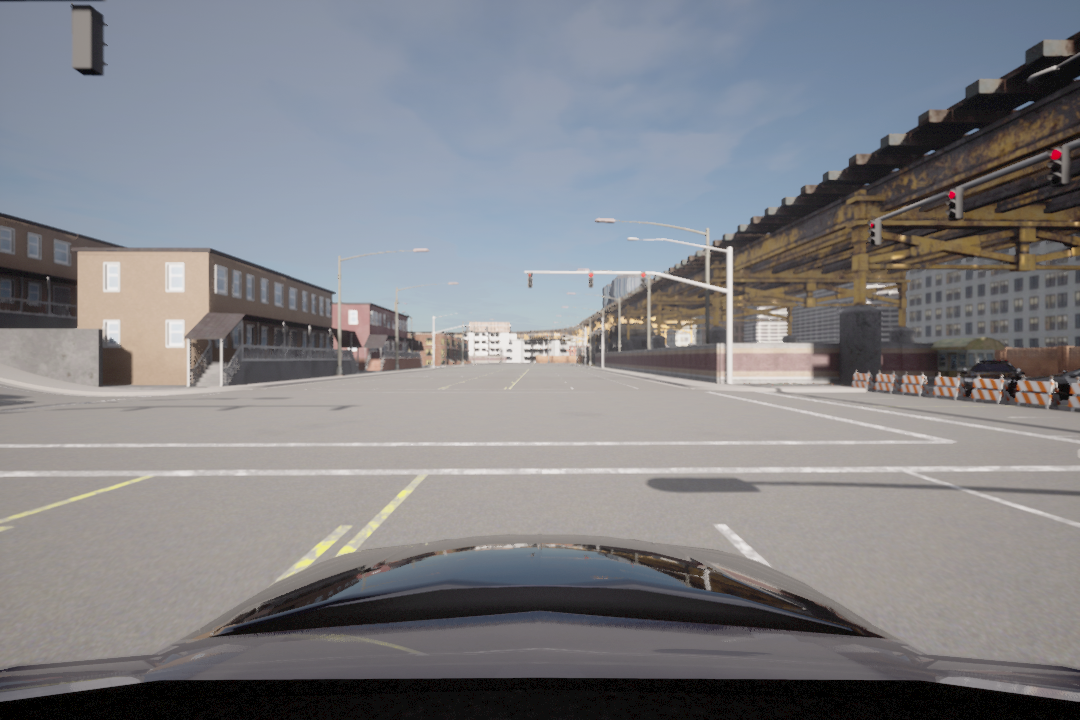TrafficLight: (1045, 144, 1071, 185), (947, 185, 961, 224), (869, 217, 883, 249), (638, 270, 648, 291), (525, 272, 534, 287), (587, 271, 594, 290)
